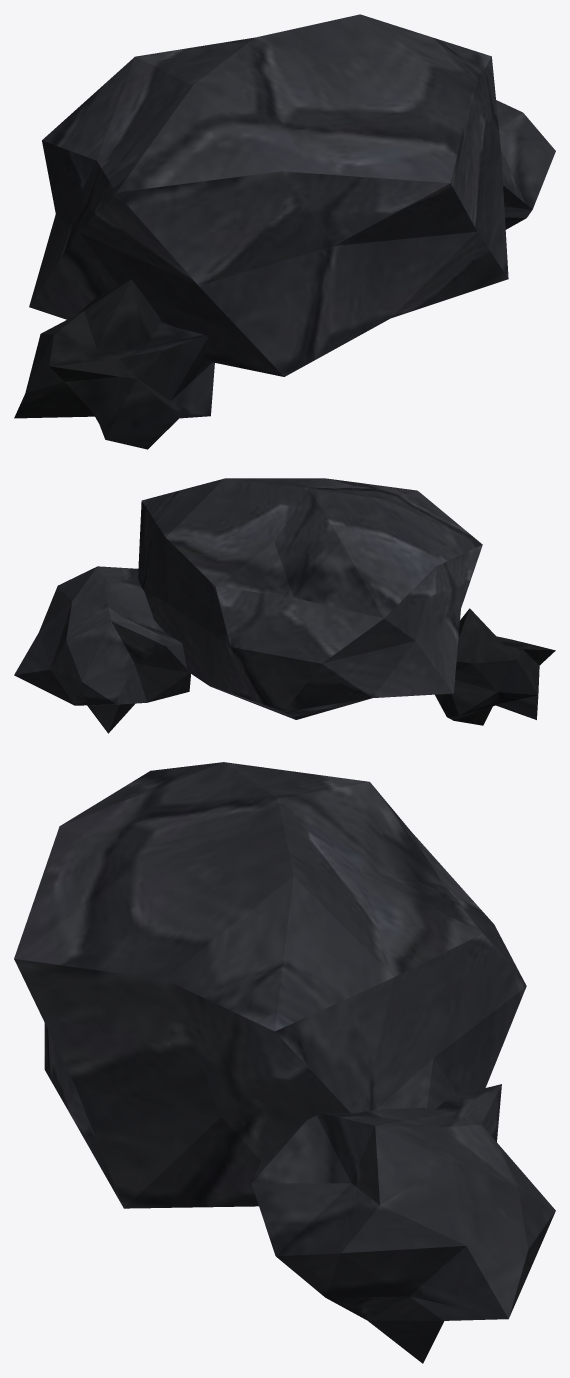
The model's file is basalt.glb.
3 views of the same model, one above another, from view 1: azimuth 30°, elevation 25°; view 2: azimuth 150°, elevation 25°; view 3: azimuth 270°, elevation 25° (orthographic). The views are drawn at different scales.
Visible parts, largest first — view 1: model; view 2: model; view 3: model.
Boxes of the visible parts, bbox=[...] form: model: bbox=[14, 14, 555, 449]; model: bbox=[14, 478, 555, 733]; model: bbox=[14, 762, 555, 1363].
Size of the model in its own units: 0.3891 by 0.2169 by 0.2461.
Materials: 3 (3 with a texture image).
